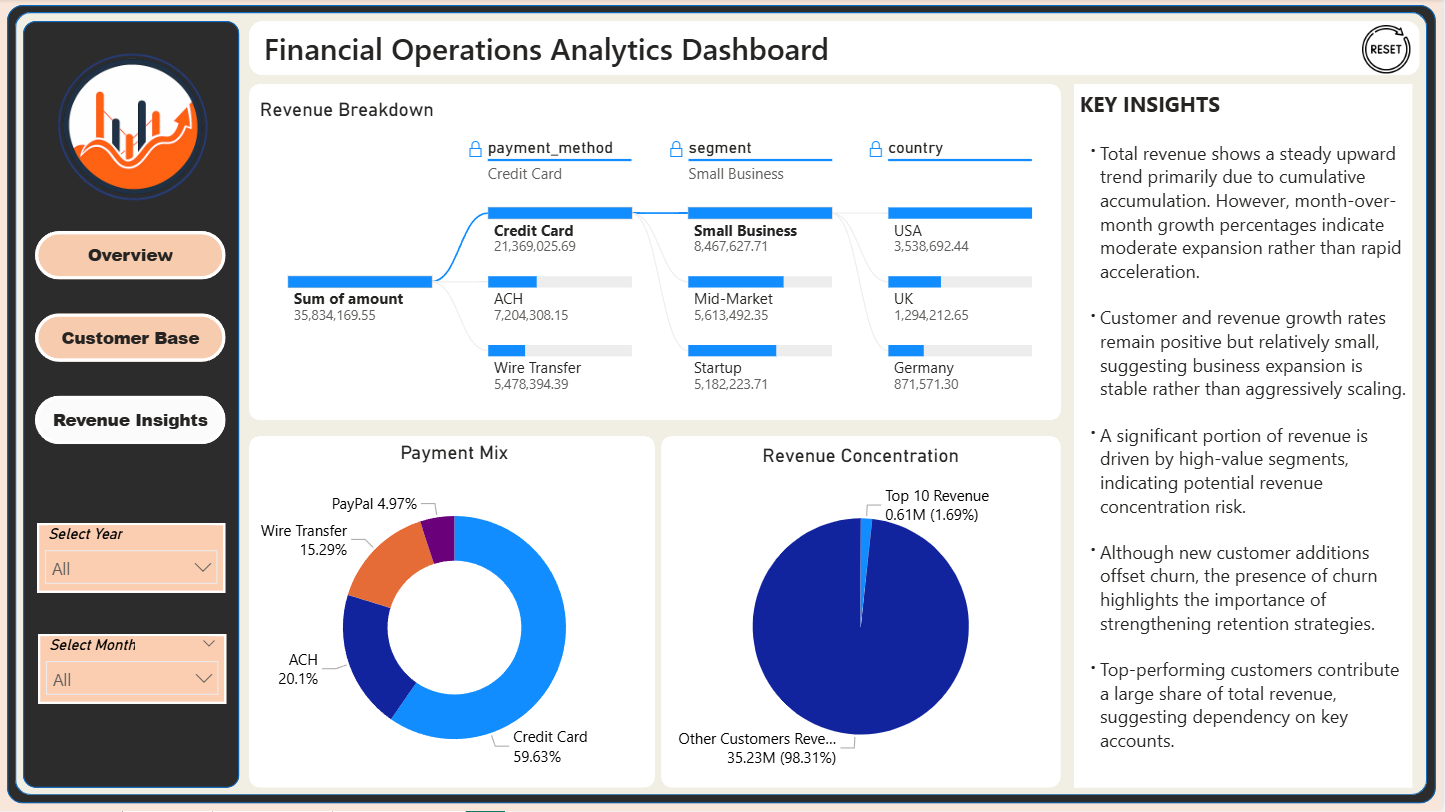

Layout of this report page (visuals, bound fields, positions):
{"tool":"powerbi","page":{"name":"Revenue Insights","canvas":[1280,720],"ordinal":2},"visuals":[{"type":"shape","box":[30.7,23.5,191.8,680],"z":0},{"type":"shape","box":[6.7,5.6,1267,708],"z":1000,"group":"g1"},{"type":"group","id":"g1","title":"Group 1","box":[6.7,5.6,1266.7,707.8],"z":1000},{"type":"shape","box":[13.8,12.1,1252.2,694.4],"z":2000,"group":"g1"},{"type":"shape","box":[20.9,19.1,191.8,680],"z":2000},{"type":"shape","box":[221.8,19.1,1038.2,48.2],"z":3000},{"type":"shape","box":[221.8,75.5,720,298.2],"z":4000},{"type":"decompositionTreeVisual","title":"Revenue Breakdown","fields":{"ExplainBy":["transactions.payment_method","customers.segment","customers.country"],"Analyze":["Sum(transactions.amount)"]},"box":[231.4,87.8,710.2,271.3],"z":5000},{"type":"textbox","box":[953.6,75.5,300,623.6],"z":6000},{"type":"shape","box":[221.8,387.3,360,311.8],"z":7000},{"type":"donutChart","title":"Payment Mix","fields":{"Category":["transactions.payment_method"],"Y":["Sum(transactions.amount)"]},"box":[226.4,391.8,355.5,311.8],"z":8000},{"type":"shape","box":[587.3,387.3,354.5,311.8],"z":9000},{"type":"pieChart","title":"Revenue Concentration","fields":{"Y":["transactions.Top 10 Revenue","transactions.Other Customers Revenue"]},"box":[593.6,394.5,341.8,304.5],"z":10000},{"type":"slicer","title":"Year","fields":{"Values":["transactions.year_month.Variation.Date Hierarchy.Year"]},"box":[33.3,464.6,167.3,62.5],"z":11000},{"type":"slicer","title":"Year","fields":{"Values":["transactions.year_month.Variation.Date Hierarchy.Month"]},"box":[34.3,563.4,167.3,62.5],"z":12000},{"type":"pageNavigator","box":[31.9,205.7,169.4,190.6],"z":13000},{"type":"textbox","box":[229.7,20.4,558.6,55],"z":14000},{"type":"image","box":[16,12.4,202.2,205.7],"z":15000},{"type":"actionButton","box":[1208.6,23.1,42.6,42.6],"z":16000}]}

Visuals, with their boxes in screenshot pixels (x1, y1, x2, y2), scaled from the page's 1280x720 canvas onto the 1445x812 screenshot:
shape: locate(35, 27, 251, 793)
shape: locate(8, 6, 1438, 805)
"Group 1" group: locate(8, 6, 1438, 805)
shape: locate(16, 14, 1429, 797)
shape: locate(24, 22, 240, 788)
shape: locate(250, 22, 1422, 76)
shape: locate(250, 85, 1063, 421)
"Revenue Breakdown" decompositionTreeVisual: locate(261, 99, 1063, 405)
textbox: locate(1077, 85, 1415, 788)
shape: locate(250, 437, 657, 788)
"Payment Mix" donutChart: locate(256, 442, 657, 794)
shape: locate(663, 437, 1063, 788)
"Revenue Concentration" pieChart: locate(670, 445, 1056, 788)
"Year" slicer: locate(38, 524, 226, 594)
"Year" slicer: locate(39, 635, 228, 706)
pageNavigator: locate(36, 232, 227, 447)
textbox: locate(259, 23, 890, 85)
image: locate(18, 14, 246, 246)
actionButton: locate(1364, 26, 1412, 74)
